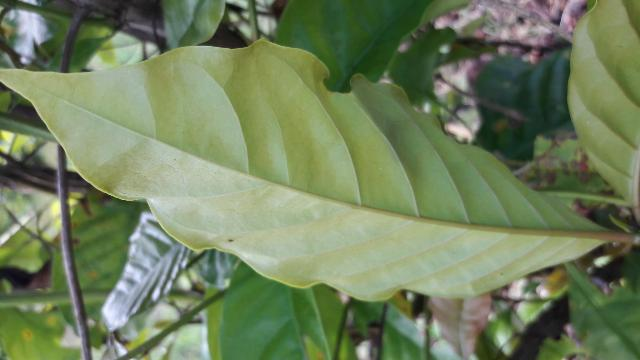healthy: (0, 37, 622, 303)
